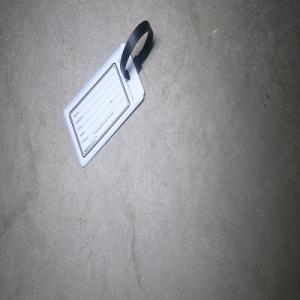LuggageTag: (62, 19, 154, 169)
